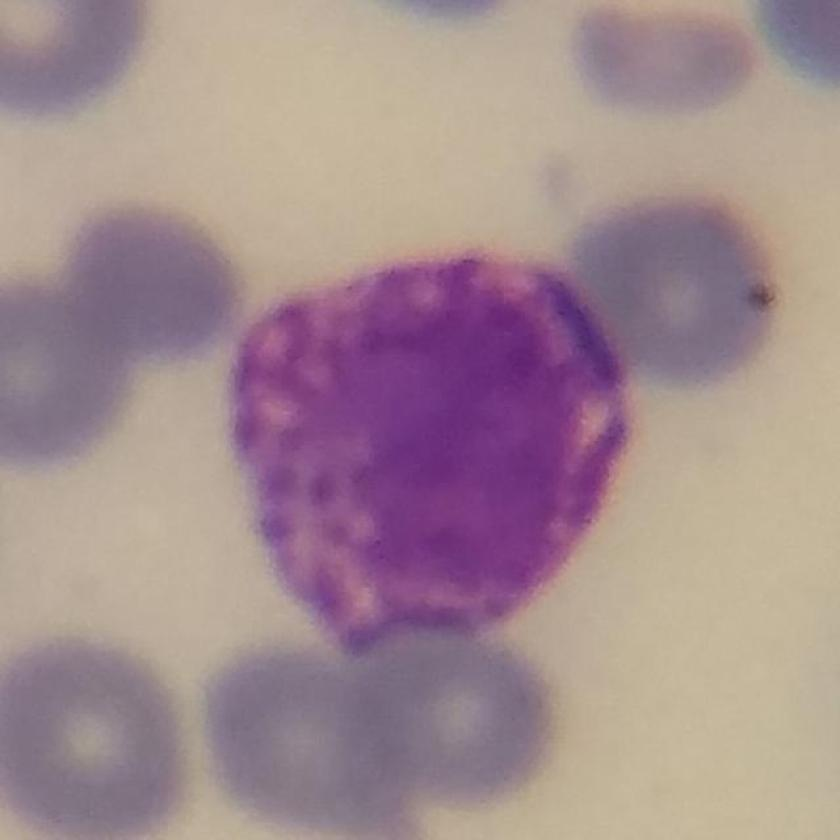basophil: (210, 244, 669, 673)
